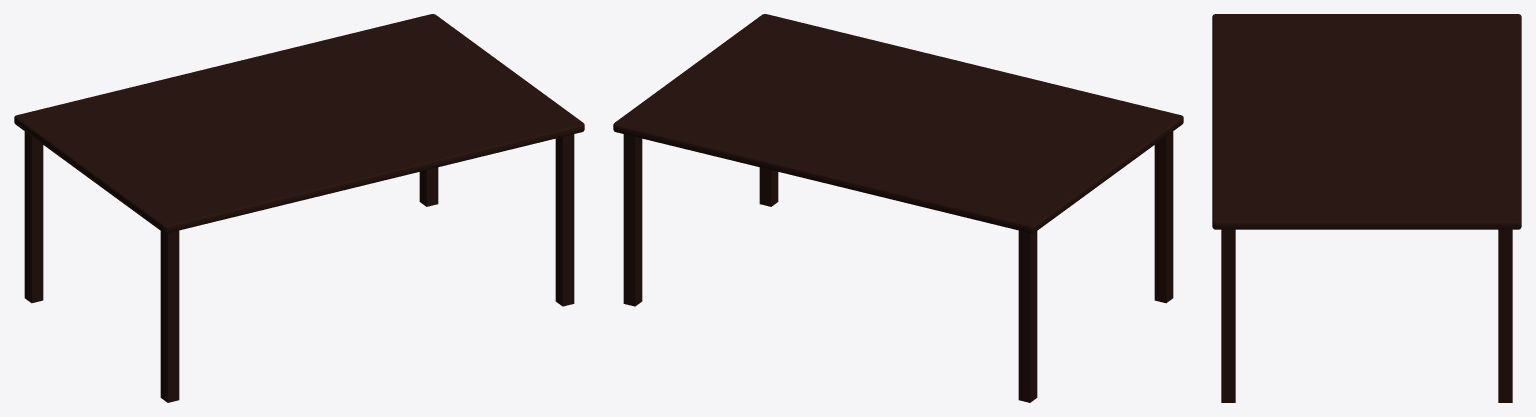
Rendered from stol.fbx.
The picture shows the model from 3 angles, left to right: view 1: azimuth 30°, elevation 25°; view 2: azimuth 150°, elevation 25°; view 3: azimuth 270°, elevation 25°; orthographic projection.
Visible parts, largest first — view 1: Cube; view 2: Cube; view 3: Cube.
Part boxes in pixels (left/top/right/bottom): Cube: left=14, top=14, right=584, bottom=402; Cube: left=613, top=14, right=1183, bottom=402; Cube: left=1212, top=14, right=1521, bottom=402.
Size of the model in its own units: 750 by 308 by 469.
